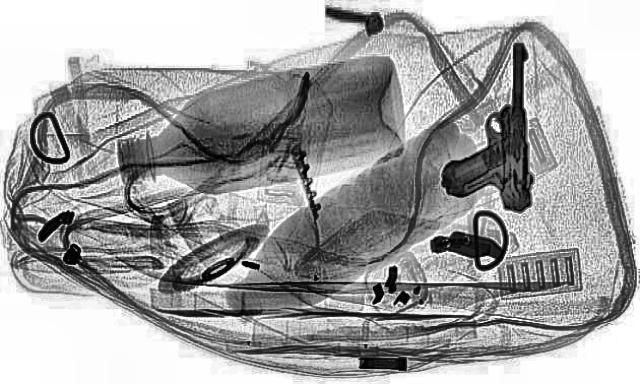Gun: (438, 42, 532, 212)
